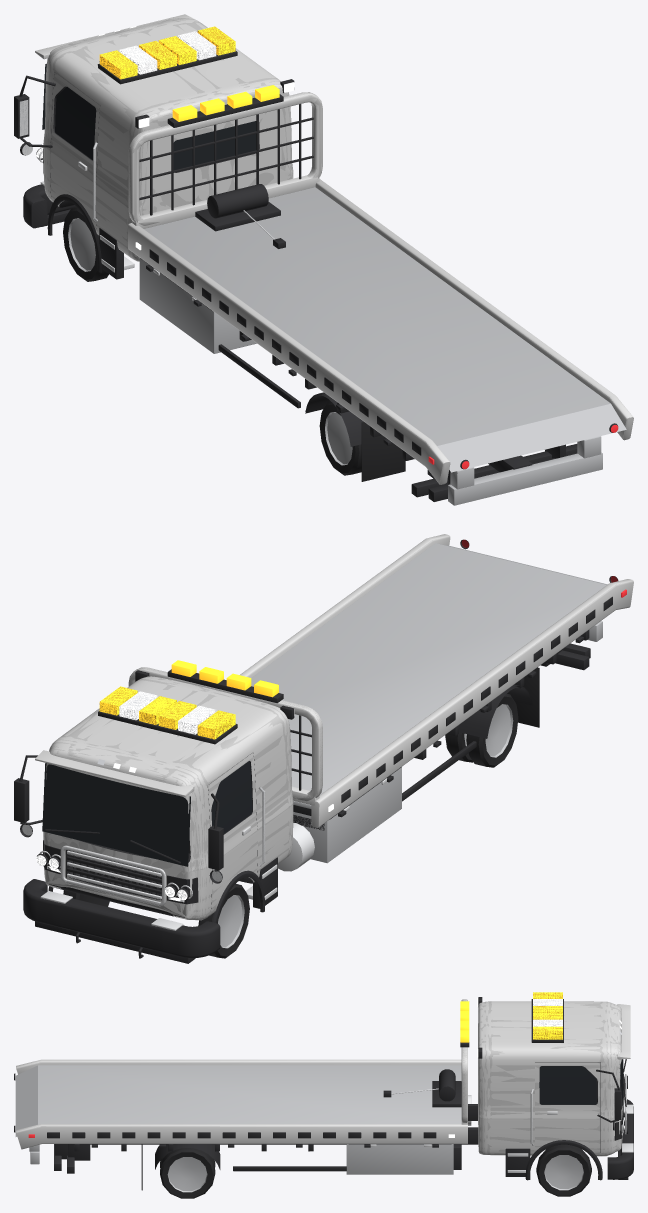
Rendered from road_tow.glb.
3 renders of one model, top to bottom at view 1: azimuth 30°, elevation 25°; view 2: azimuth 150°, elevation 25°; view 3: azimuth 270°, elevation 25°, orthographic. The views are drawn at different scales.
Parts seen in each view (by area): view 1: rig_bed, road_tow, road_tow_far; view 2: road_tow, rig_bed, road_tow_far; view 3: rig_bed, road_tow, road_tow_far.
Part boxes in pixels (box(x1,y1,x2,y2)): rig_bed: box(128, 85, 633, 484); road_tow: box(14, 14, 602, 505); road_tow_far: box(19, 18, 633, 491); road_tow: box(14, 621, 602, 963); rig_bed: box(128, 534, 633, 827); road_tow_far: box(19, 539, 619, 958); rig_bed: box(14, 999, 469, 1149); road_tow: box(29, 992, 633, 1190); road_tow_far: box(14, 992, 633, 1198).
Size of the model in its own units: 2.62 by 2.7 by 9.55.
